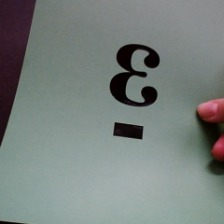green3: (107, 43, 165, 142)
